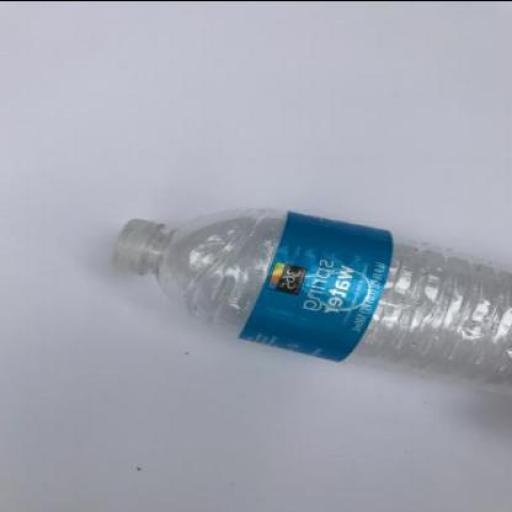plastic: (110, 209, 510, 390), (234, 208, 394, 361), (111, 218, 161, 277)
